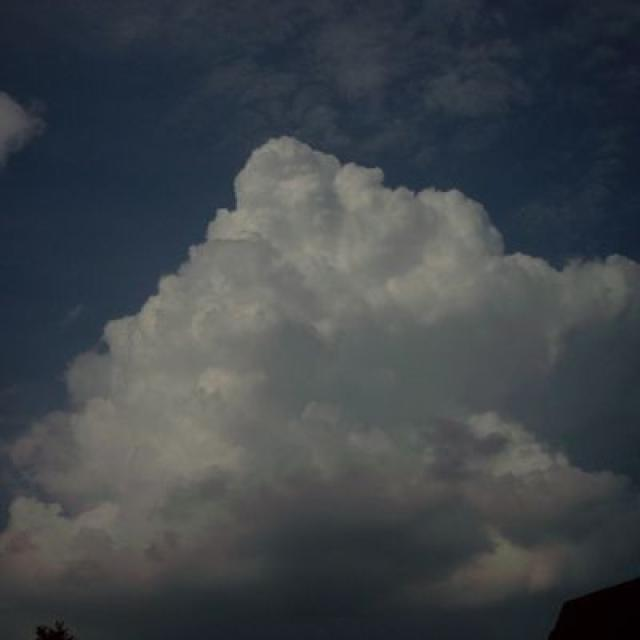Cu: (5, 81, 640, 501)
